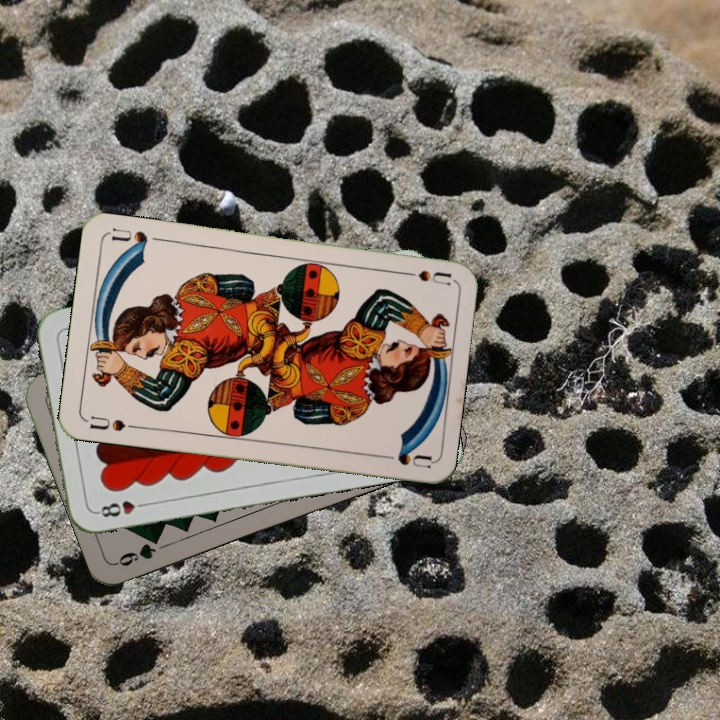G9: (112, 539, 158, 569)
H8: (92, 496, 151, 520)
SU: (83, 411, 142, 434), (394, 266, 453, 288)
